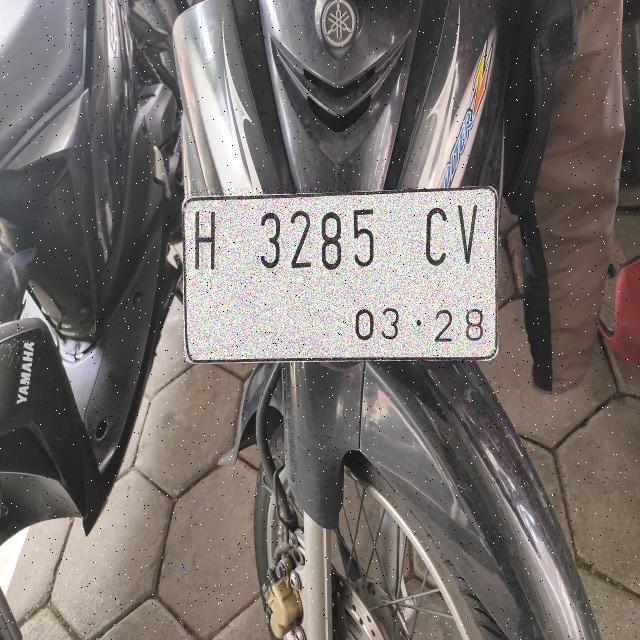plate: (184, 188, 496, 361)
